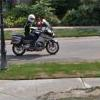Motorcycle: (7, 14, 61, 59)
